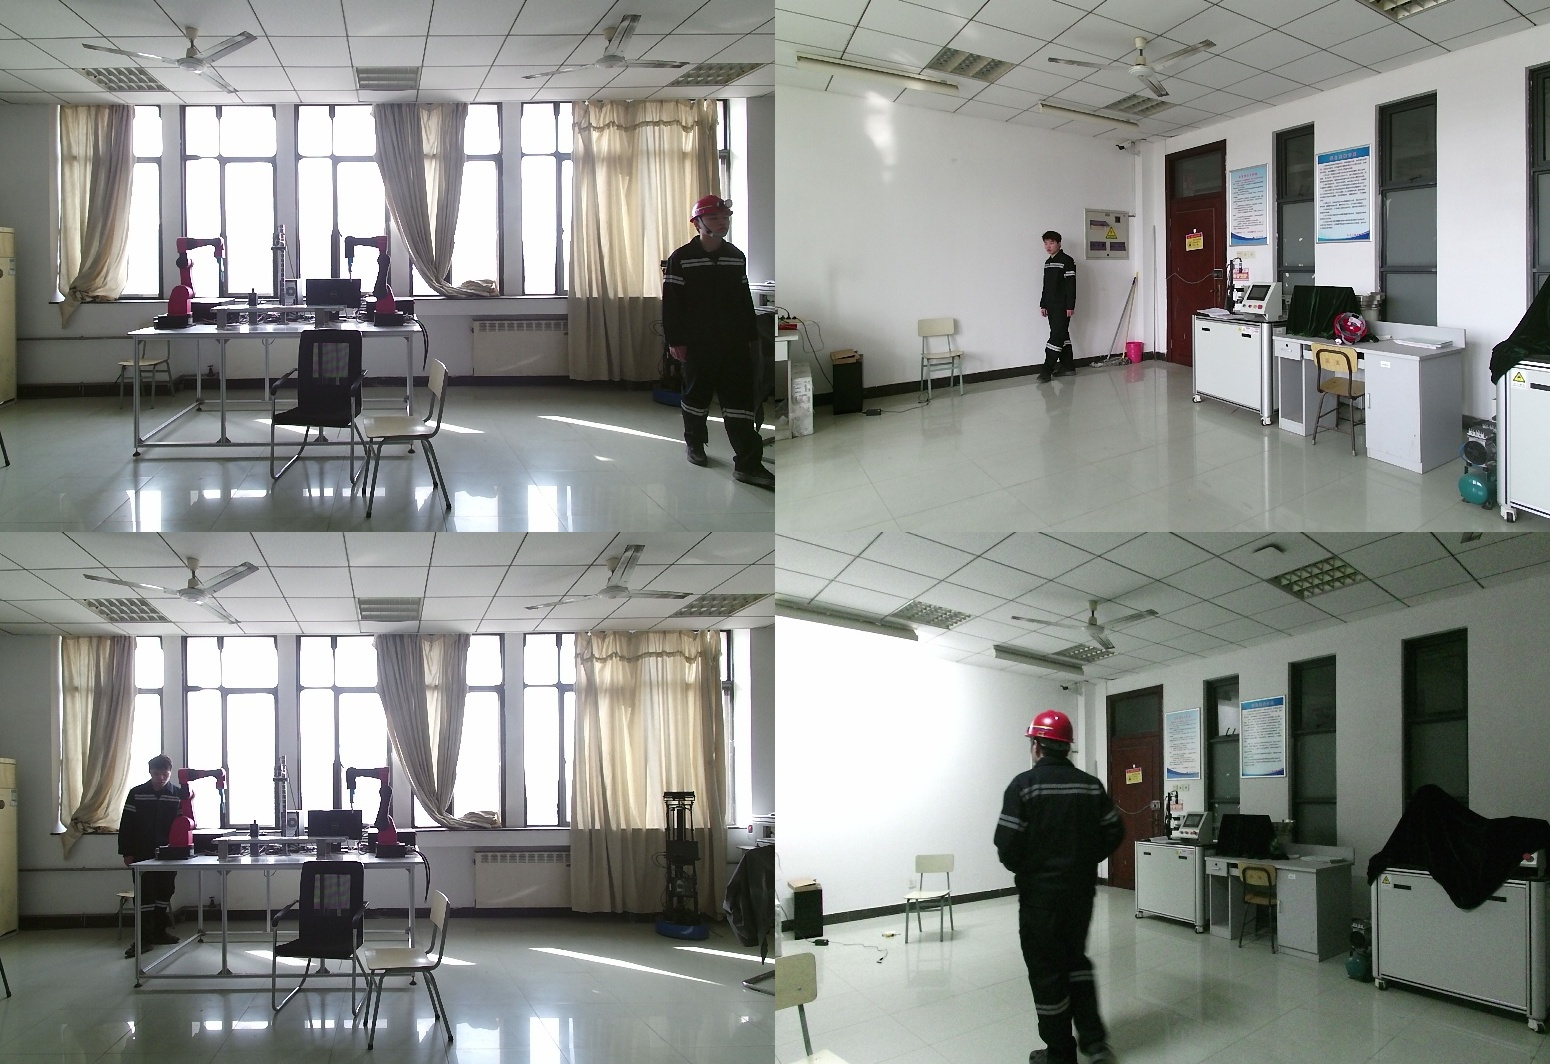person: (995, 709, 1140, 1064), (662, 196, 775, 489), (116, 755, 188, 960), (1039, 229, 1080, 385)
